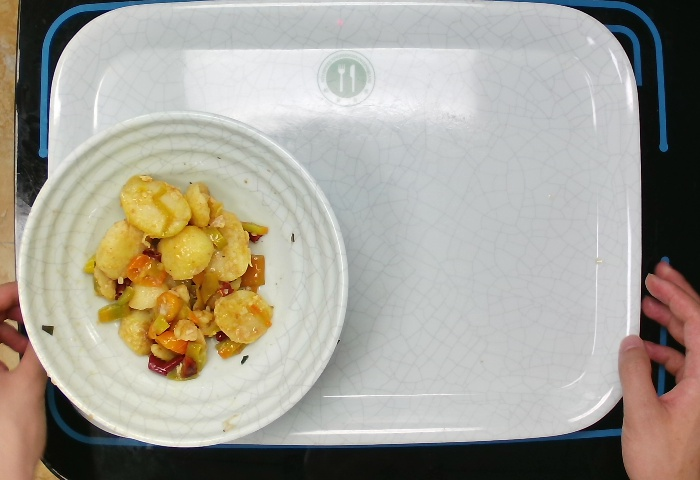JYsf-Da_Tang_Wan: (13, 107, 350, 449)
